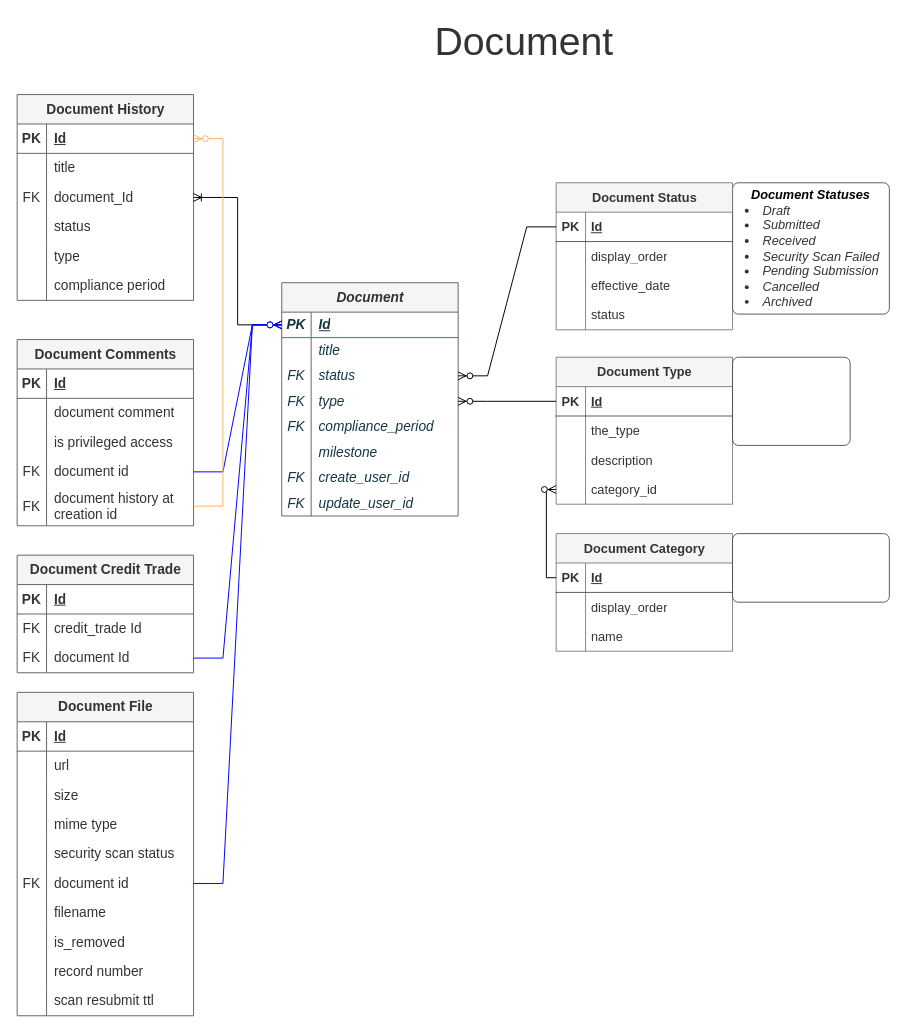
Image size: 907x1033. Some labels were removed from this diagram. Each missing label, with the centre of its shape:
"Document Category Part 3 Agreements Other" belongs at pixel 810 567.
"Document Types Application Evidence Records Other" belongs at pixel 791 400.
